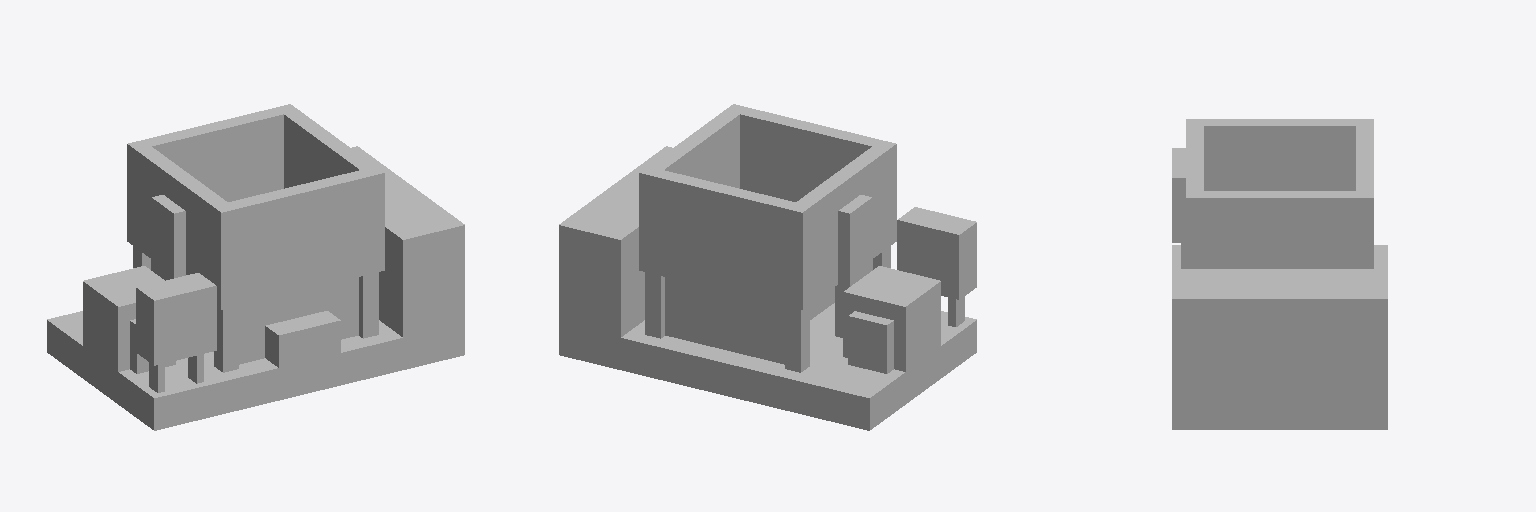
The model's file is crusher.obj.
The picture shows the model from 3 angles: view 1: azimuth 30°, elevation 25°; view 2: azimuth 150°, elevation 25°; view 3: azimuth 270°, elevation 25°; orthographic projection.
Visible parts, largest first — view 1: base, plane; view 2: base, plane; view 3: base.
Boxes of the visible parts, x1=… form: base: x1=47, y1=104, x2=464, y2=430; plane: x1=239, y1=277, x2=358, y2=364; base: x1=559, y1=104, x2=976, y2=430; plane: x1=665, y1=277, x2=784, y2=364; base: x1=1172, y1=119, x2=1387, y2=429.
Size of the model in its own units: 5 by 3 by 3.